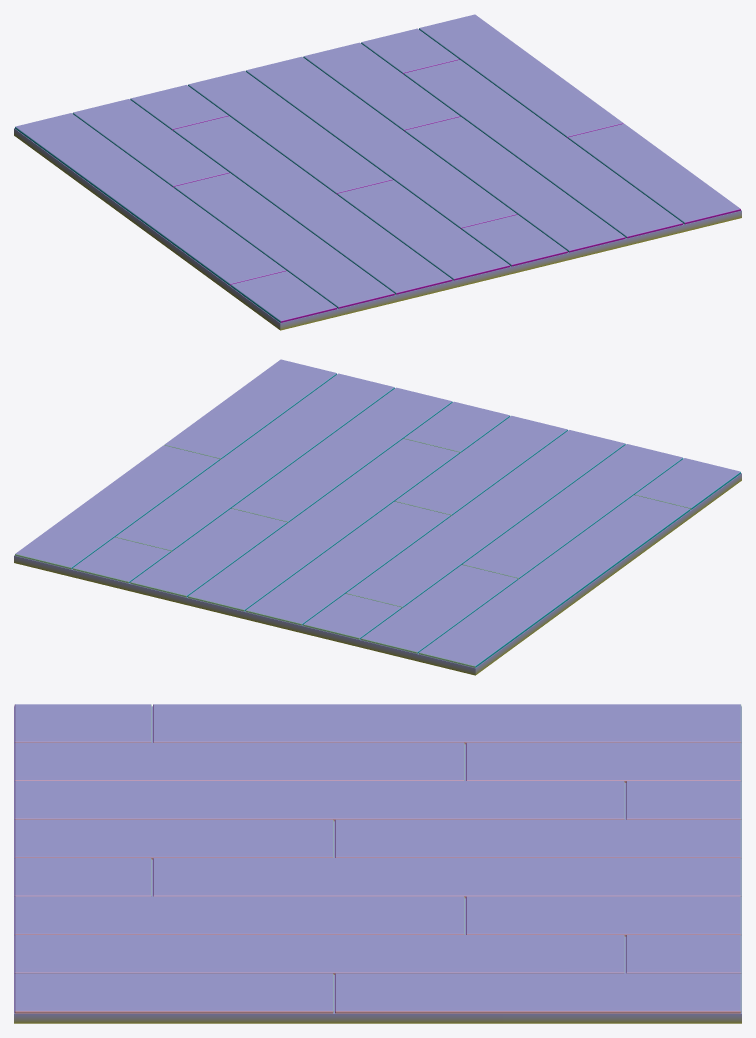
Rendered from env_floor_wood.glb.
3 renders of one model, top to bottom at view 1: azimuth 30°, elevation 25°; view 2: azimuth 150°, elevation 25°; view 3: azimuth 270°, elevation 25°, orthographic. The views are drawn at different scales.
Parts seen in each view (by area): view 1: env_floor_wood_mesh; view 2: env_floor_wood_mesh; view 3: env_floor_wood_mesh.
Part boxes in pixels (box(x1,y1,x2,y2)): env_floor_wood_mesh: box(14, 14, 741, 330); env_floor_wood_mesh: box(14, 359, 741, 675); env_floor_wood_mesh: box(14, 704, 741, 1023).
Size of the model in its own units: 2 by 0.038 by 2.
